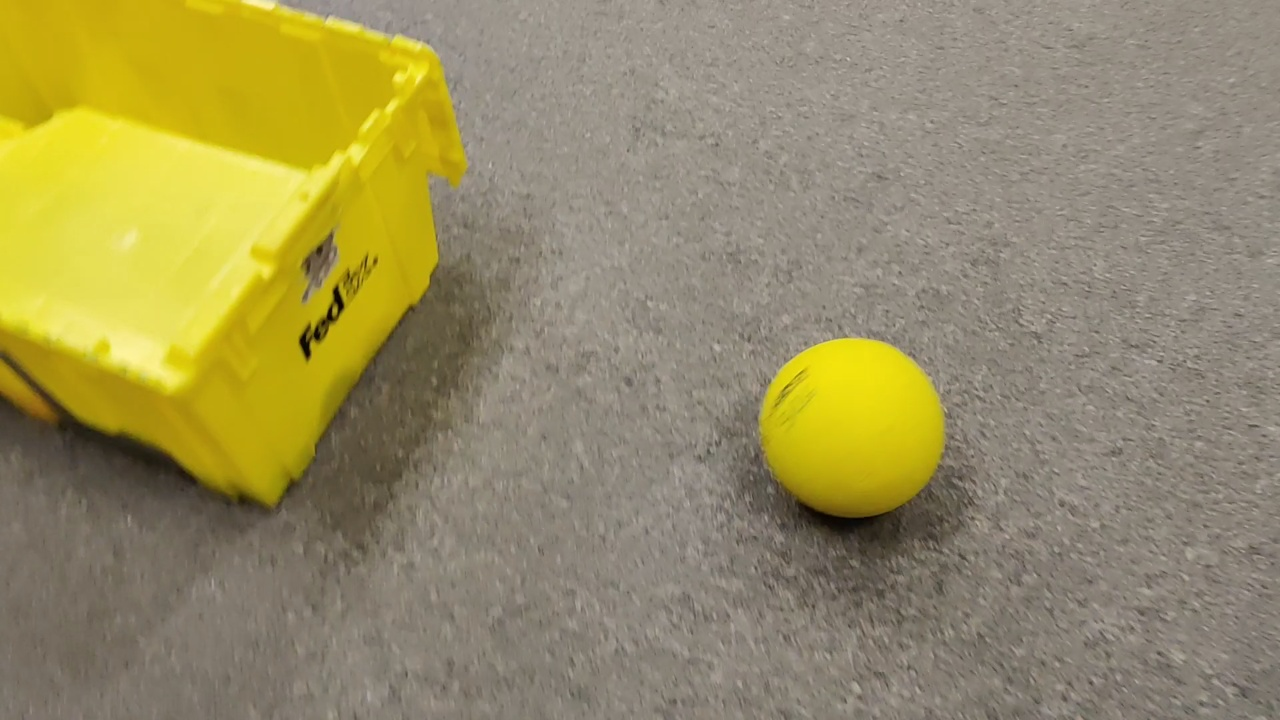Ball: (760, 335, 944, 517)
